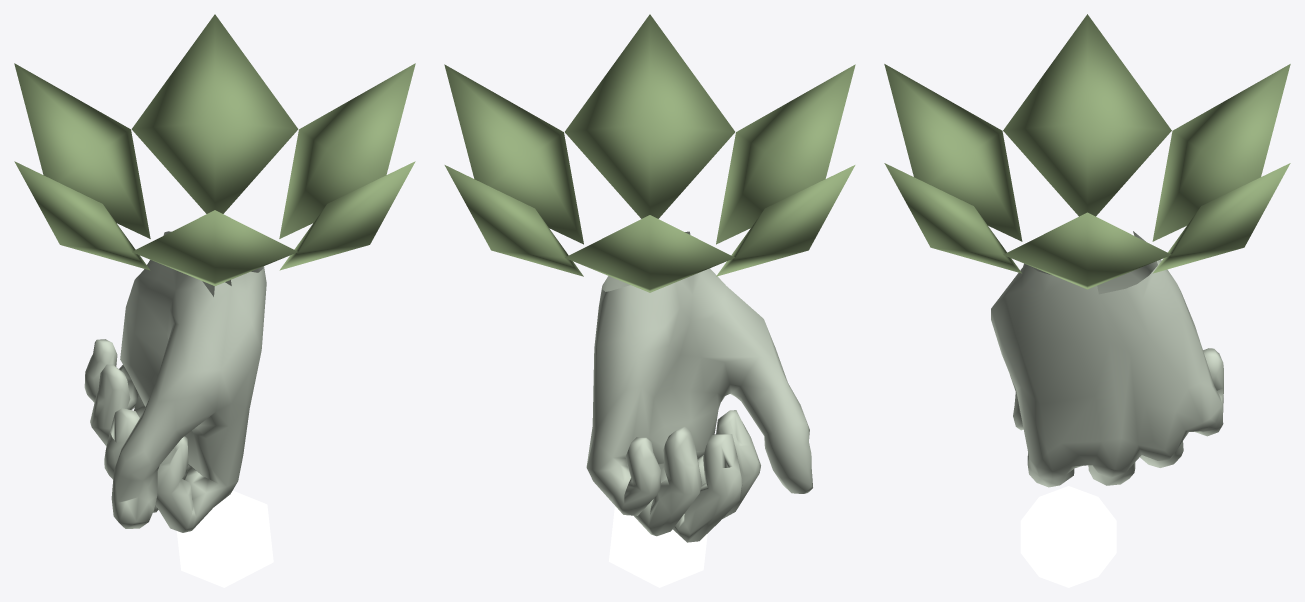
File: sprite-small-hands.glb
3 views of the same model, side by side, from view 1: azimuth 30°, elevation 25°; view 2: azimuth 150°, elevation 25°; view 3: azimuth 270°, elevation 25° (orthographic). The views are drawn at different scales.
Visible parts, largest first — view 1: sprite_small_hands; view 2: sprite_small_hands; view 3: sprite_small_hands.
Boxes of the visible parts, <box> form: sprite_small_hands: <box>14,14,415,587</box>; sprite_small_hands: <box>444,14,855,587</box>; sprite_small_hands: <box>884,14,1290,587</box>.
Size of the model in its own units: 0.1 by 0.1116 by 0.0866.
